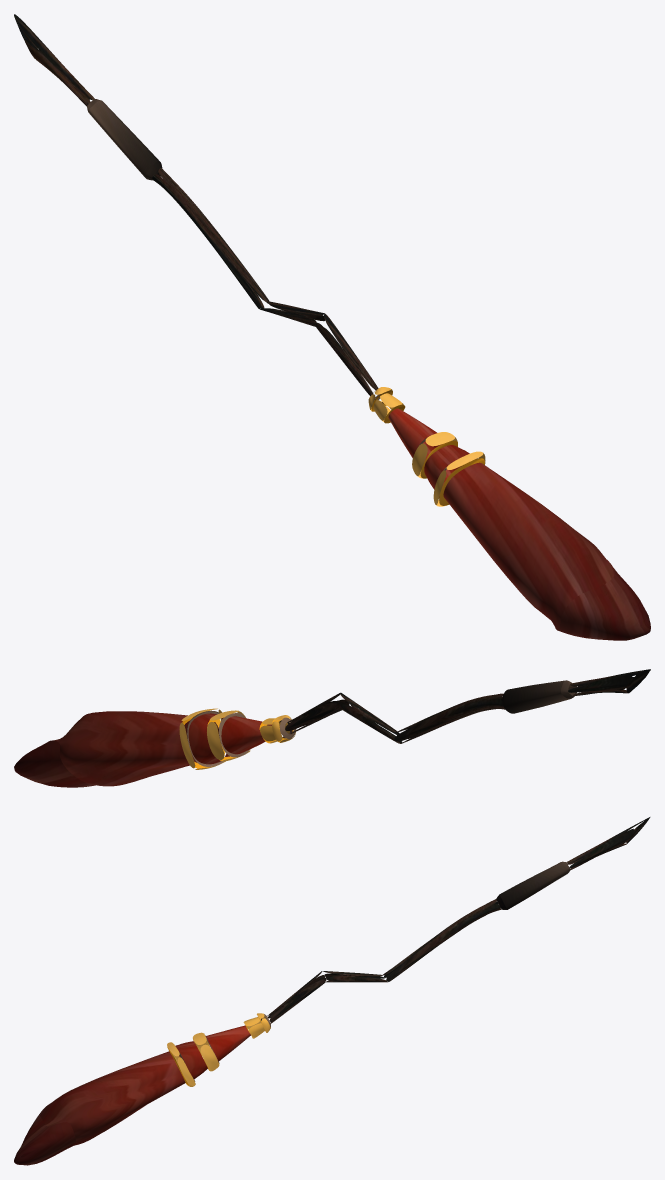
File: ebonyBirch.glb
3 renders of one model, top to bottom at view 1: azimuth 30°, elevation 25°; view 2: azimuth 210°, elevation 25°; view 3: azimuth 270°, elevation 25°, orthographic. The views are drawn at different scales.
Parts seen in each view (by area): view 1: MainStick; view 2: MainStick; view 3: MainStick.
Boxes of the visible parts, x1,y1,x2,y2 form: MainStick: (14, 14, 650, 640); MainStick: (14, 669, 650, 787); MainStick: (14, 817, 650, 1165).
Bounding box in the file's own units: 4.77 × 7.8 × 16.2.
1 material, 1 textured.
